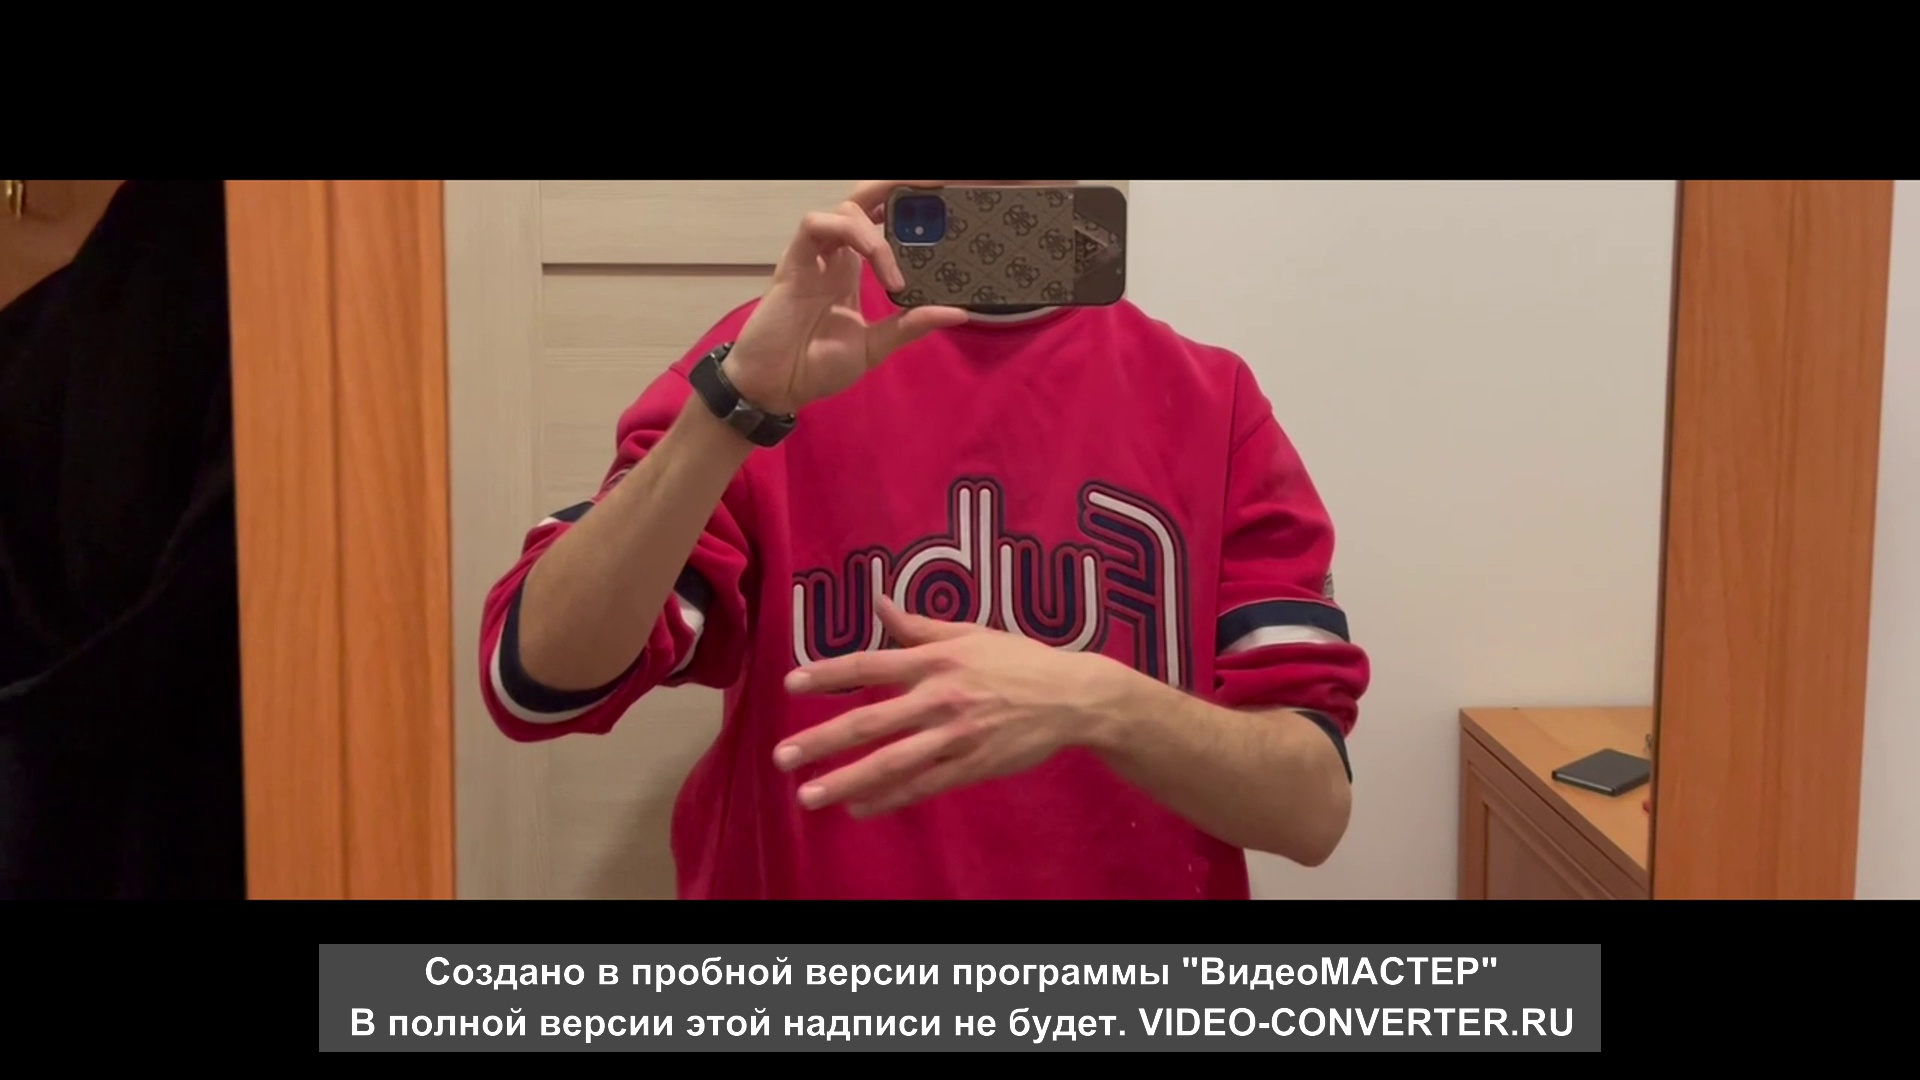Кисть: (771, 596, 1092, 822)
